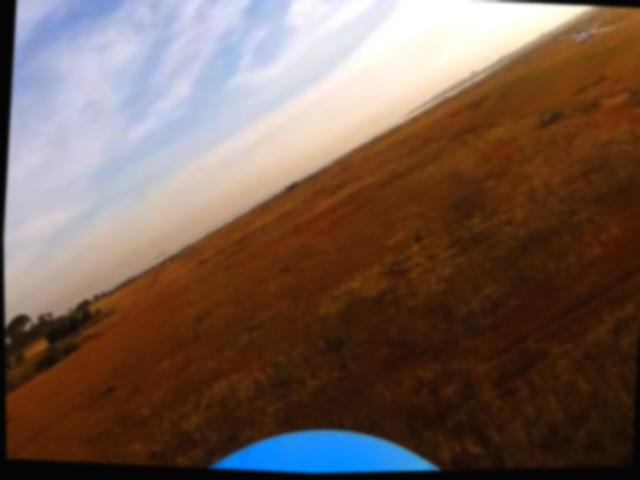uav: (541, 17, 617, 58)
